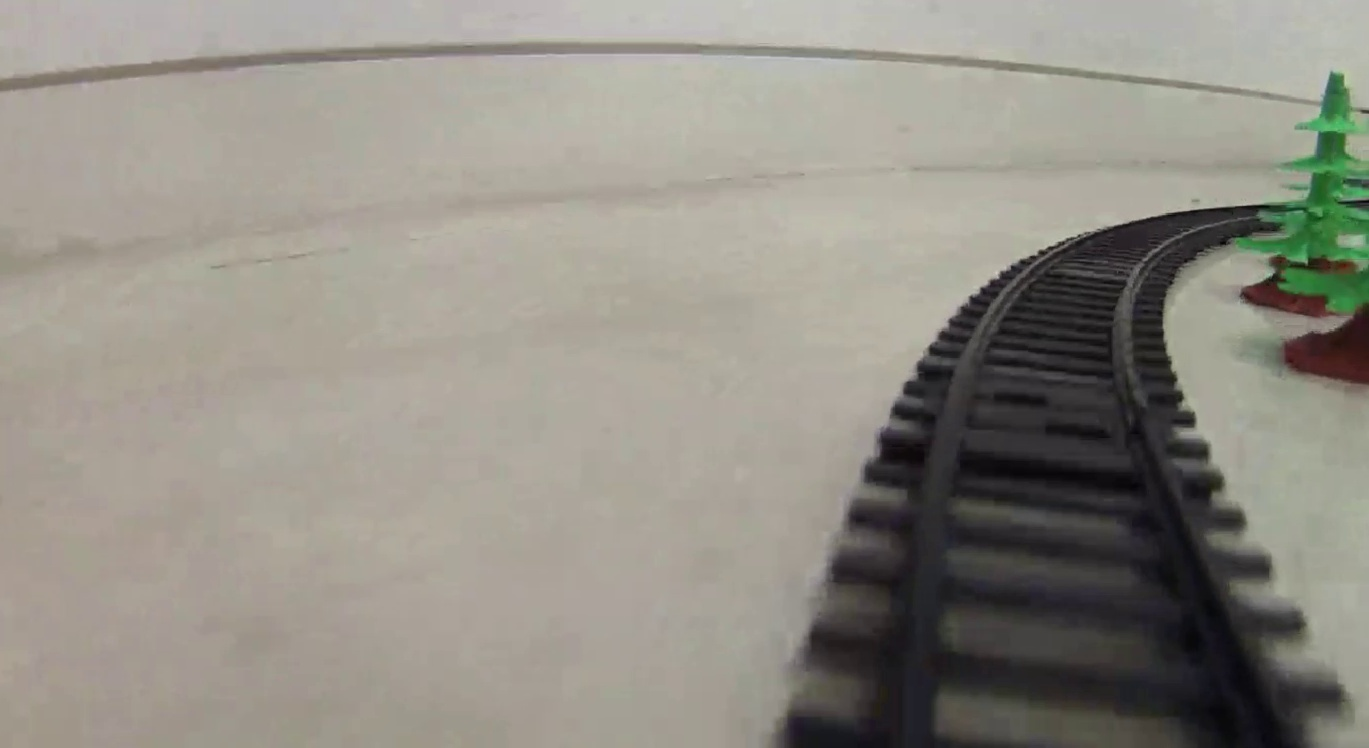tree: (1240, 70, 1369, 318)
